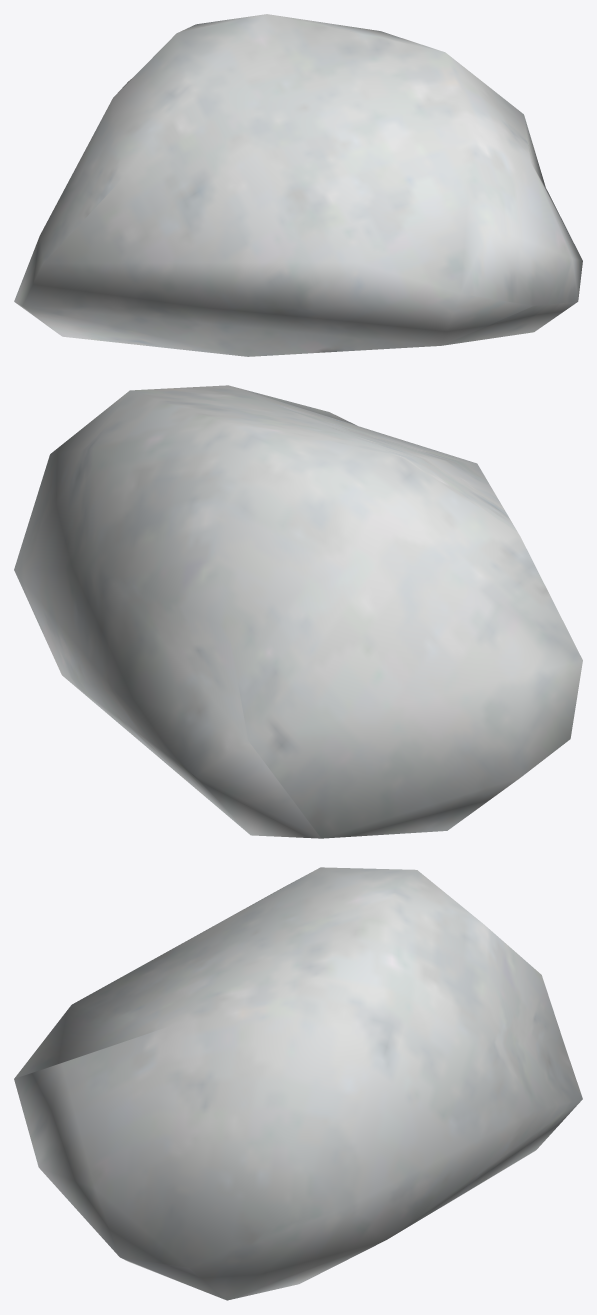
Rendered from SnowRock.FBX.
3 renders of one model, top to bottom at view 1: azimuth 30°, elevation 25°; view 2: azimuth 150°, elevation 25°; view 3: azimuth 270°, elevation 25°, orthographic. The views are drawn at different scales.
Parts seen in each view (by area): view 1: FX_Rock01; view 2: FX_Rock01; view 3: FX_Rock01.
Part boxes in pixels (x1,y1,x2,y2): FX_Rock01: [14, 14, 582, 356]; FX_Rock01: [14, 385, 582, 838]; FX_Rock01: [14, 867, 582, 1300].
Size of the model in its own units: 43.02 by 25.47 by 40.07.
